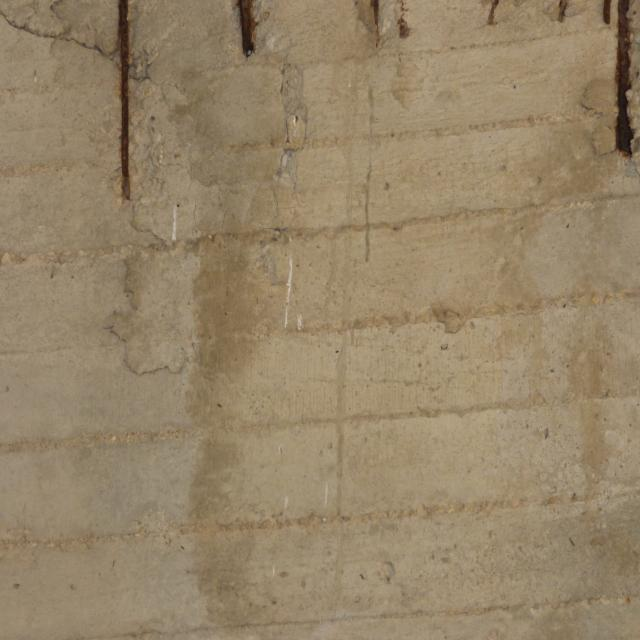corrosion: (106, 4, 155, 234), (596, 0, 638, 167), (354, 0, 428, 50), (230, 0, 268, 73), (479, 0, 510, 31), (548, 0, 573, 26)
